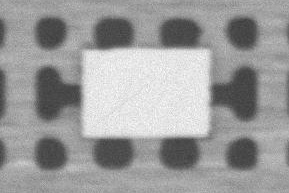DIE_CRACK: (136, 52, 232, 85)
